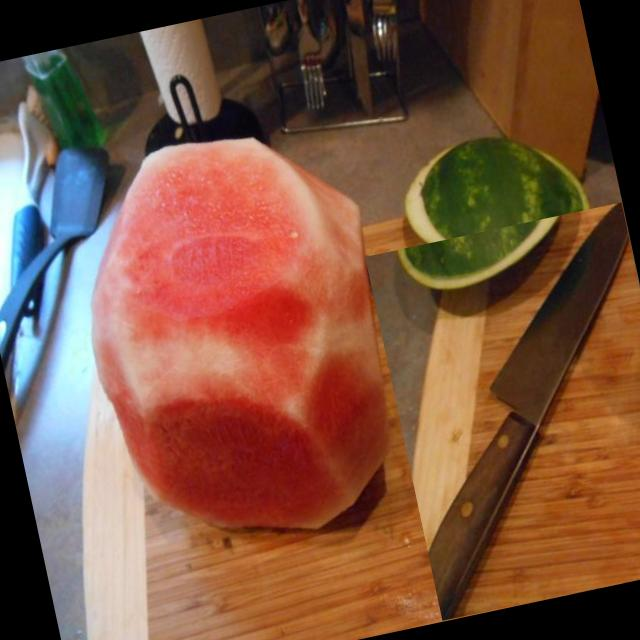Knife: (428, 202, 629, 620)
